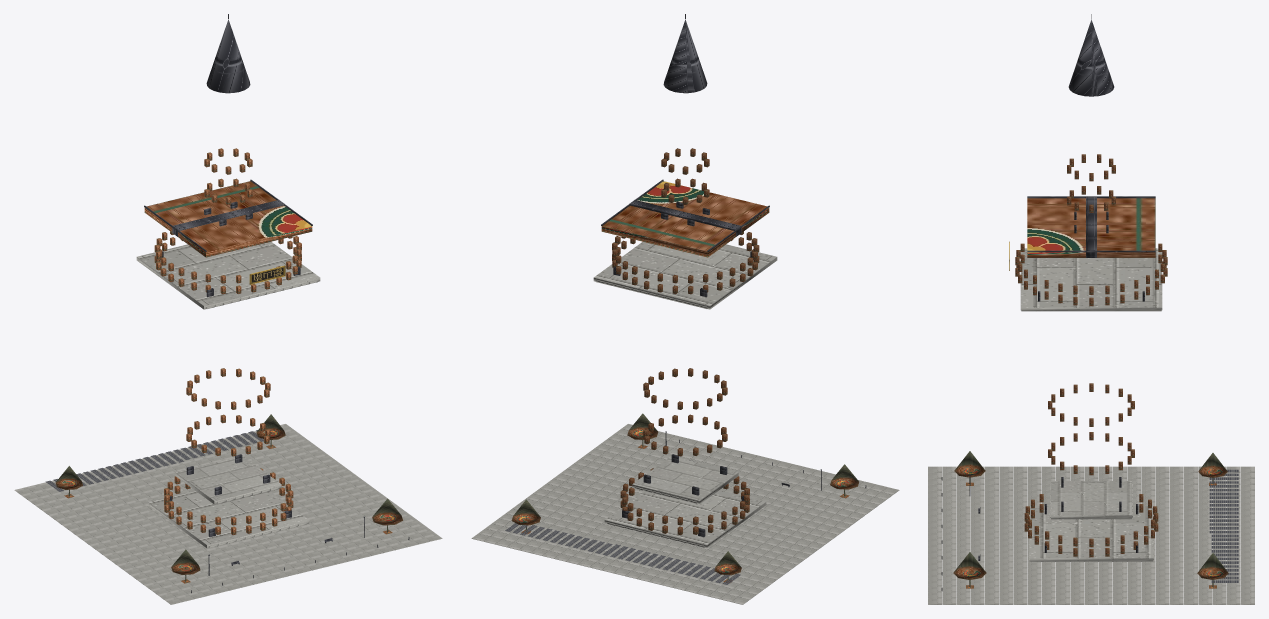
3 views of the same model, side by side, from view 1: azimuth 30°, elevation 25°; view 2: azimuth 150°, elevation 25°; view 3: azimuth 270°, elevation 25° (orthographic). The views are drawn at different scales.
Visible parts, largest first — view 1: 11140_02_04629_020_01__plinth_ground_base, 11140_02_04629_020_02__mass_body_facade, 11140_02_04629_020_05__window_sash_glass, 11140_02_04629_020_03__roof_metal_ornament, 11140_02_04629_020_06__landscape_greenery, 11140_02_04629_020_03__roof_deck_structure, 11140_02_04629_020_05__door_hardware_iron; view 2: 11140_02_04629_020_01__plinth_ground_base, 11140_02_04629_020_02__mass_body_facade, 11140_02_04629_020_05__window_sash_glass, 11140_02_04629_020_03__roof_metal_ornament, 11140_02_04629_020_03__roof_deck_structure, 11140_02_04629_020_06__landscape_greenery, 11140_02_04629_020_05__door_hardware_iron; view 3: 11140_02_04629_020_01__plinth_ground_base, 11140_02_04629_020_02__mass_body_facade, 11140_02_04629_020_05__window_sash_glass, 11140_02_04629_020_03__roof_metal_ornament, 11140_02_04629_020_03__roof_deck_structure, 11140_02_04629_020_06__landscape_greenery, 11140_02_04629_020_05__door_hardware_iron.
Part boxes in pixels (x1=…): 11140_02_04629_020_01__plinth_ground_base: x1=14, y1=242, x2=442, y2=604; 11140_02_04629_020_02__mass_body_facade: x1=144, y1=181, x2=312, y2=257; 11140_02_04629_020_05__window_sash_glass: x1=154, y1=148, x2=301, y2=535; 11140_02_04629_020_03__roof_metal_ornament: x1=144, y1=14, x2=312, y2=251; 11140_02_04629_020_06__landscape_greenery: x1=55, y1=414, x2=402, y2=583; 11140_02_04629_020_03__roof_deck_structure: x1=45, y1=430, x2=263, y2=491; 11140_02_04629_020_05__door_hardware_iron: x1=160, y1=201, x2=409, y2=593; 11140_02_04629_020_01__plinth_ground_base: x1=471, y1=242, x2=899, y2=604; 11140_02_04629_020_02__mass_body_facade: x1=601, y1=181, x2=769, y2=257; 11140_02_04629_020_05__window_sash_glass: x1=612, y1=148, x2=759, y2=535; 11140_02_04629_020_03__roof_metal_ornament: x1=601, y1=14, x2=769, y2=251; 11140_02_04629_020_03__roof_deck_structure: x1=505, y1=523, x2=740, y2=584; 11140_02_04629_020_06__landscape_greenery: x1=511, y1=413, x2=858, y2=582; 11140_02_04629_020_05__door_hardware_iron: x1=613, y1=201, x2=866, y2=536; 11140_02_04629_020_01__plinth_ground_base: x1=928, y1=248, x2=1254, y2=604; 11140_02_04629_020_02__mass_body_facade: x1=1027, y1=198, x2=1155, y2=257; 11140_02_04629_020_05__window_sash_glass: x1=1015, y1=154, x2=1167, y2=557; 11140_02_04629_020_03__roof_metal_ornament: x1=1027, y1=14, x2=1155, y2=257; 11140_02_04629_020_03__roof_deck_structure: x1=1209, y1=469, x2=1238, y2=582; 11140_02_04629_020_06__landscape_greenery: x1=953, y1=451, x2=1228, y2=588; 11140_02_04629_020_05__door_hardware_iron: x1=941, y1=211, x2=1144, y2=590.
Bounding box in the file's own units: 69.95 × 123 × 69.95.
Materials: 7 (7 with a texture image).
